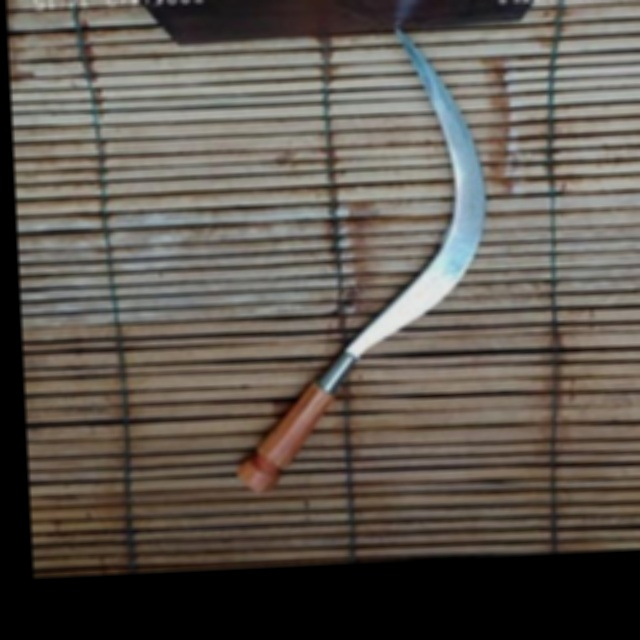Sharp-Object: (210, 24, 507, 503)
